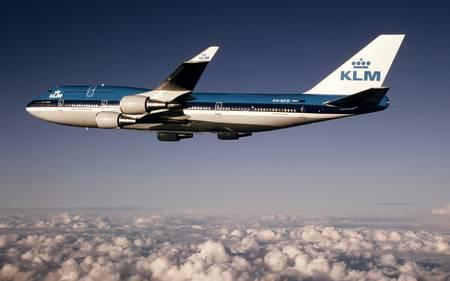airplane: (22, 32, 409, 138)
